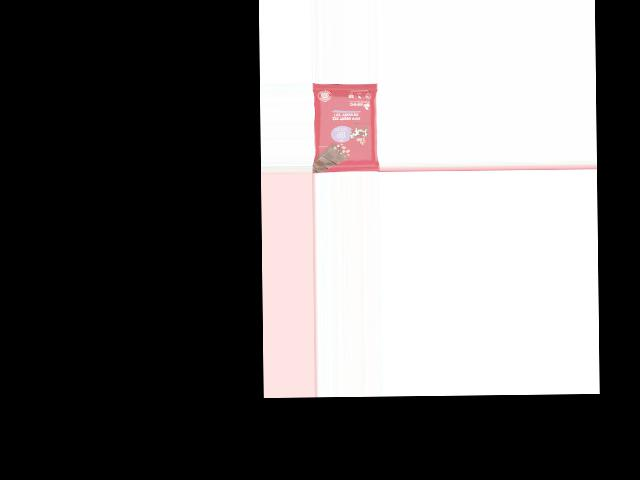chocolate: (314, 81, 379, 172)
